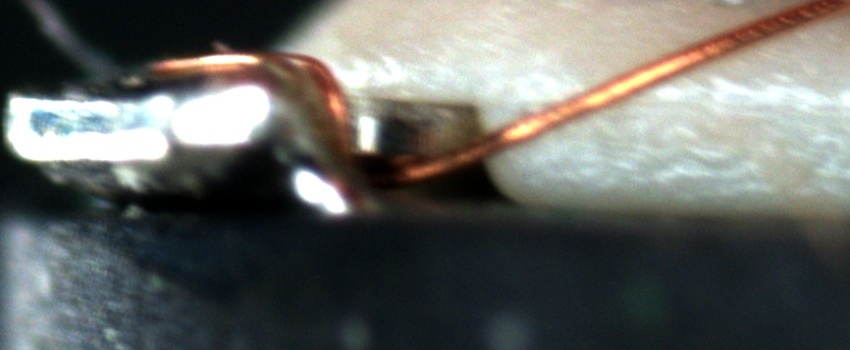DL: (612, 71, 850, 135)
TE: (142, 43, 373, 162)
